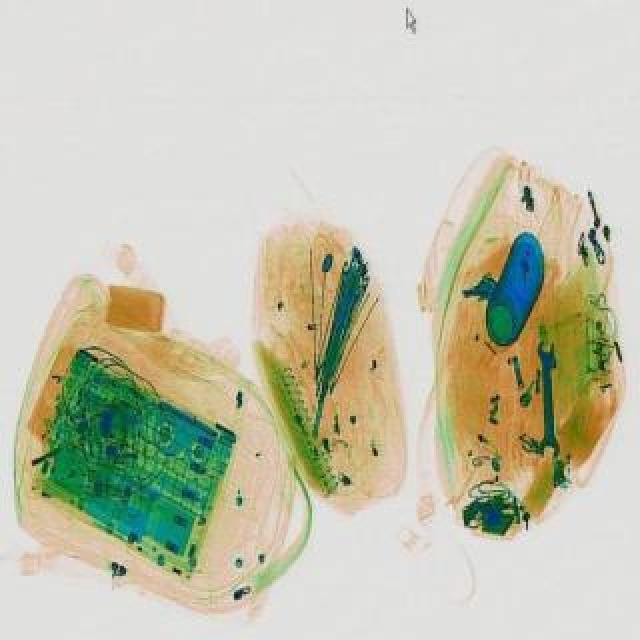scissors: (536, 336, 560, 456)
